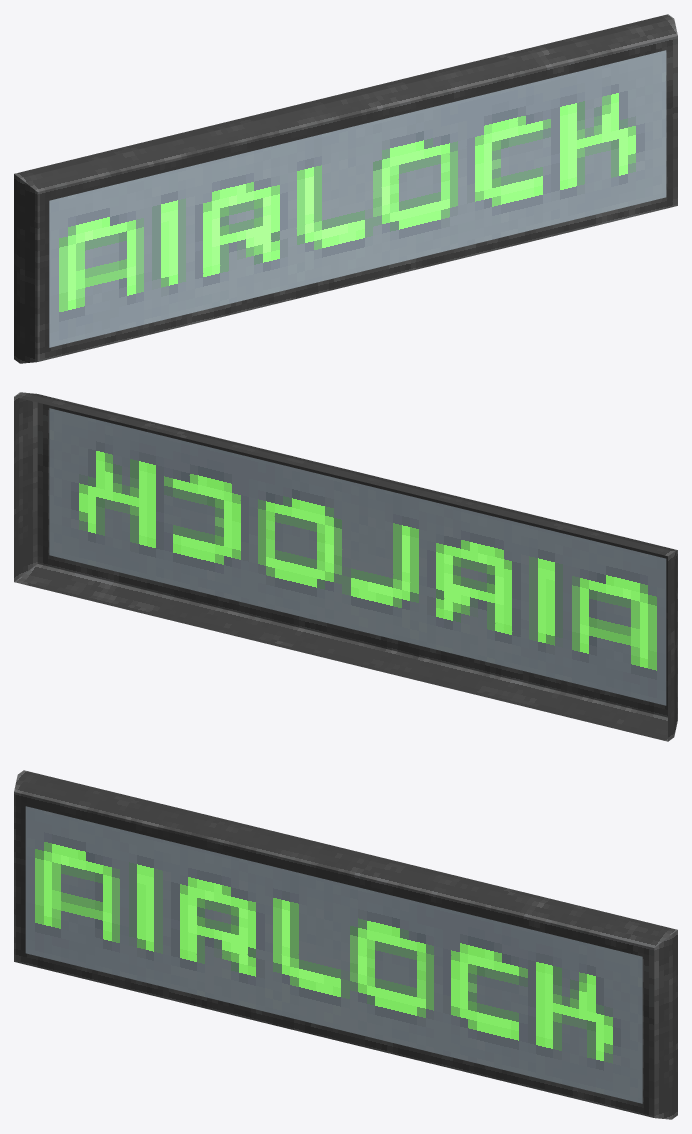
Rendered from small_airlock.glb.
The picture shows the model from 3 angles, top to bottom: view 1: azimuth 30°, elevation 25°; view 2: azimuth 150°, elevation 25°; view 3: azimuth 330°, elevation 25°; orthographic projection.
Visible parts, largest first — view 1: Sign-Small_Airlock; view 2: Sign-Small_Airlock; view 3: Sign-Small_Airlock.
Boxes of the visible parts, box(x1,y1,x2,y2) form: Sign-Small_Airlock: box(14, 14, 677, 363); Sign-Small_Airlock: box(14, 392, 677, 741); Sign-Small_Airlock: box(14, 770, 677, 1119).
Bounding box in the file's own units: 9.3 × 2.52 × 0.4128.
1 material, 1 textured.
